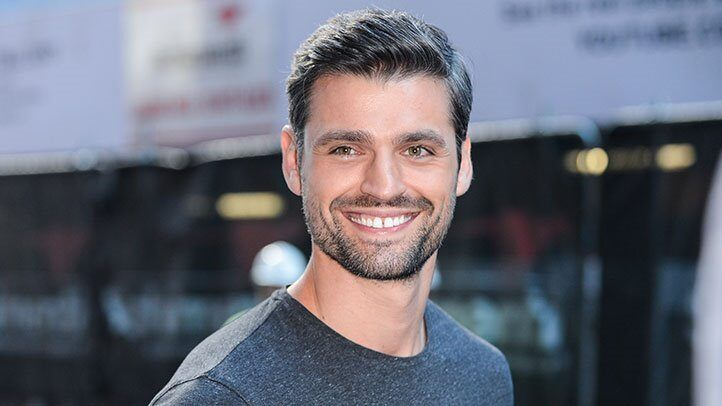Without Helmet: (267, 3, 481, 297)
